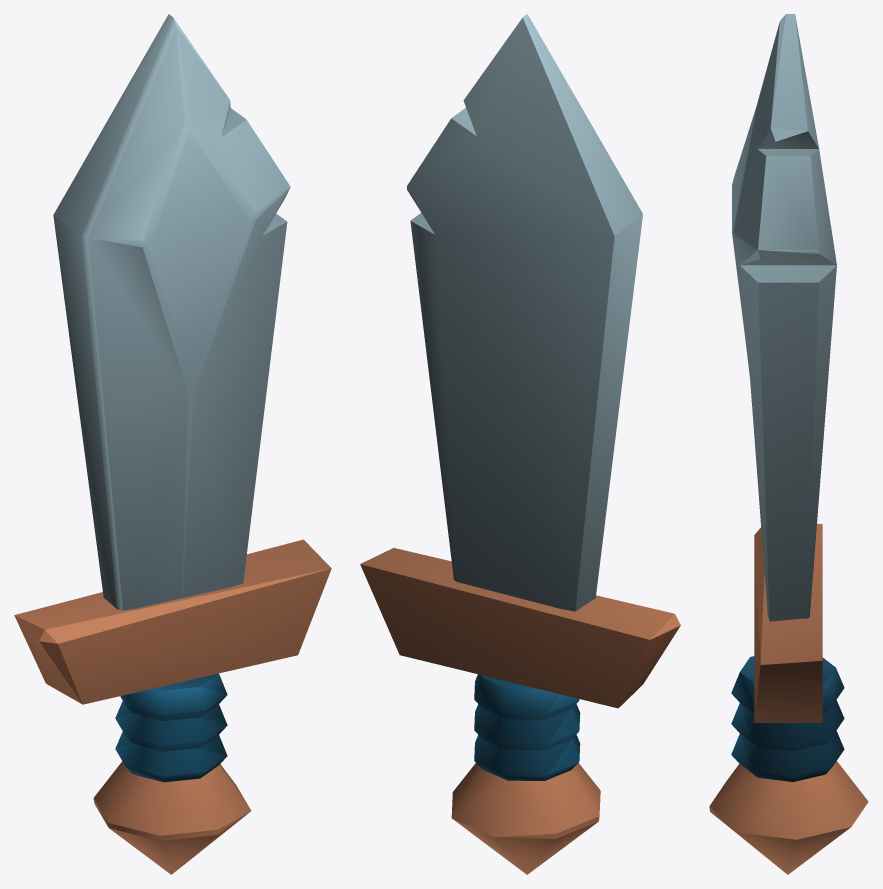
File: sword_001.glb
3 renders of one model, left to right at view 1: azimuth 30°, elevation 25°; view 2: azimuth 150°, elevation 25°; view 3: azimuth 270°, elevation 25°, orthographic.
Visible parts, largest first — view 1: sword.001; view 2: sword.001; view 3: sword.001.
Boxes of the visible parts, box(x1,y1,x2,y2) form: sword.001: box(14, 14, 331, 874); sword.001: box(360, 14, 680, 874); sword.001: box(709, 14, 868, 874).
Bounding box in the file's own units: 0.6081 × 1.71 × 0.2859.
Materials: 1 (1 with a texture image).
